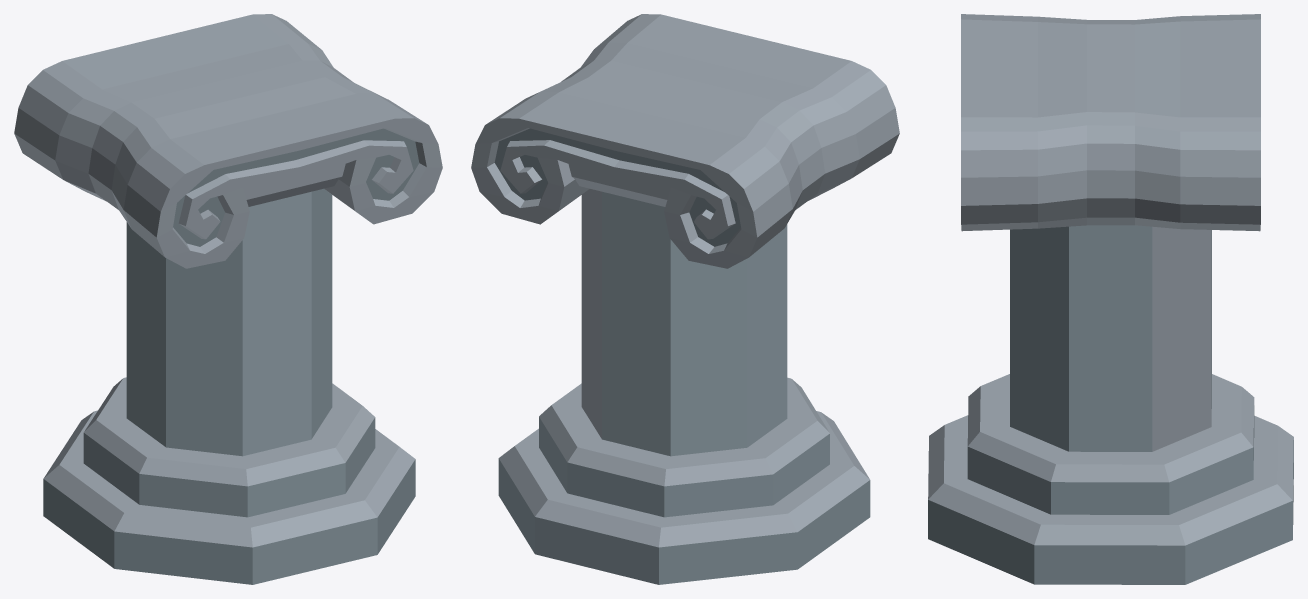
Rendered from greek_column.fbx.
3 views of the same model, side by side, from view 1: azimuth 30°, elevation 25°; view 2: azimuth 150°, elevation 25°; view 3: azimuth 270°, elevation 25° (orthographic). The views are drawn at different scales.
Parts seen in each view (by area): view 1: greek_column; view 2: greek_column; view 3: greek_column.
Part boxes in pixels (bbox=[...]): greek_column: bbox=[14, 14, 442, 584]; greek_column: bbox=[471, 14, 899, 584]; greek_column: bbox=[928, 14, 1293, 584].
Bounding box in the file's own units: 47.23 × 62.56 × 47.23.
